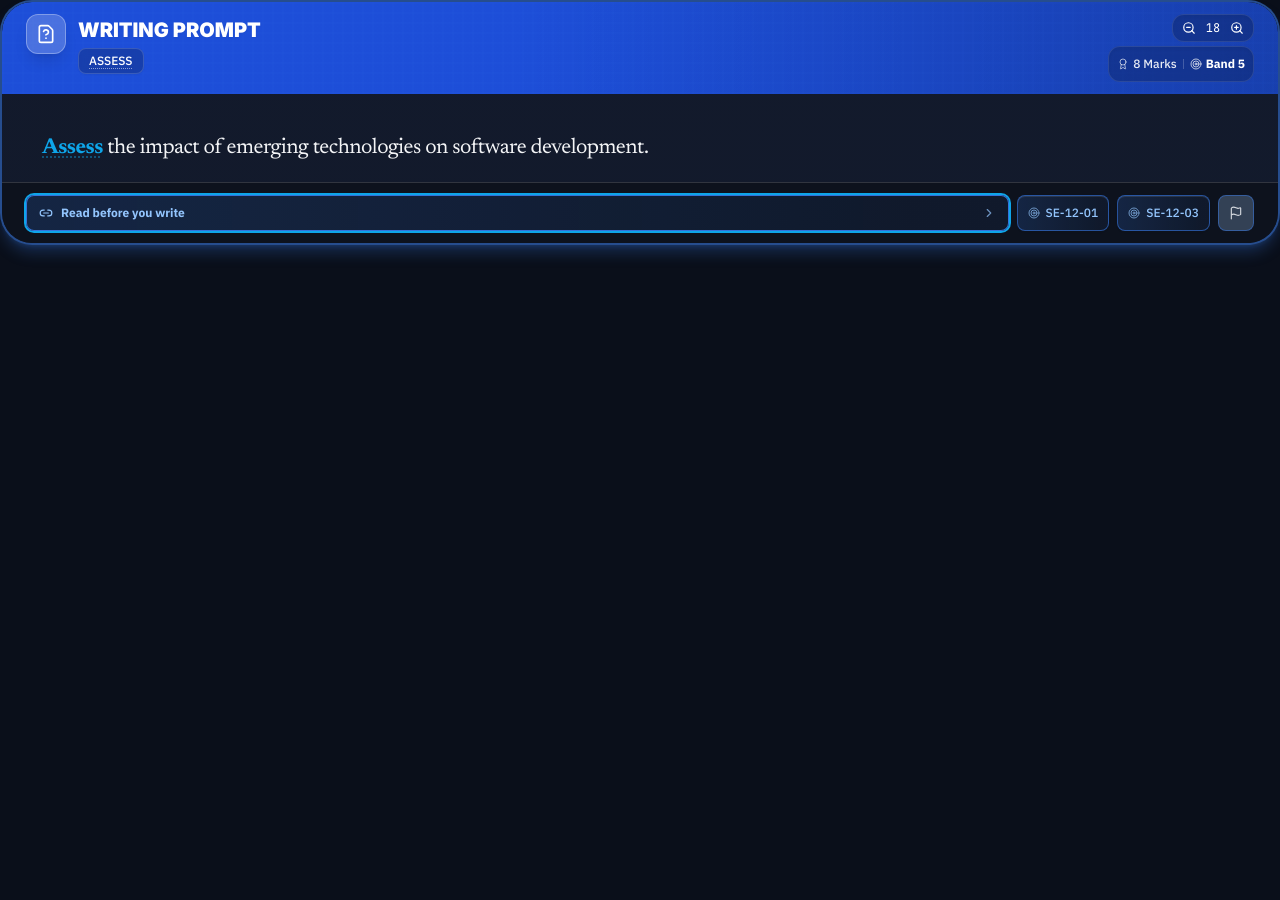
focus returns to the prompt card’s triggers › "Read before you write" opens the outcome brief › returns focus to the button when the brief is closed with Escape
Click the button "Read before you write" at (123, 213), box [26,195,1008,231]
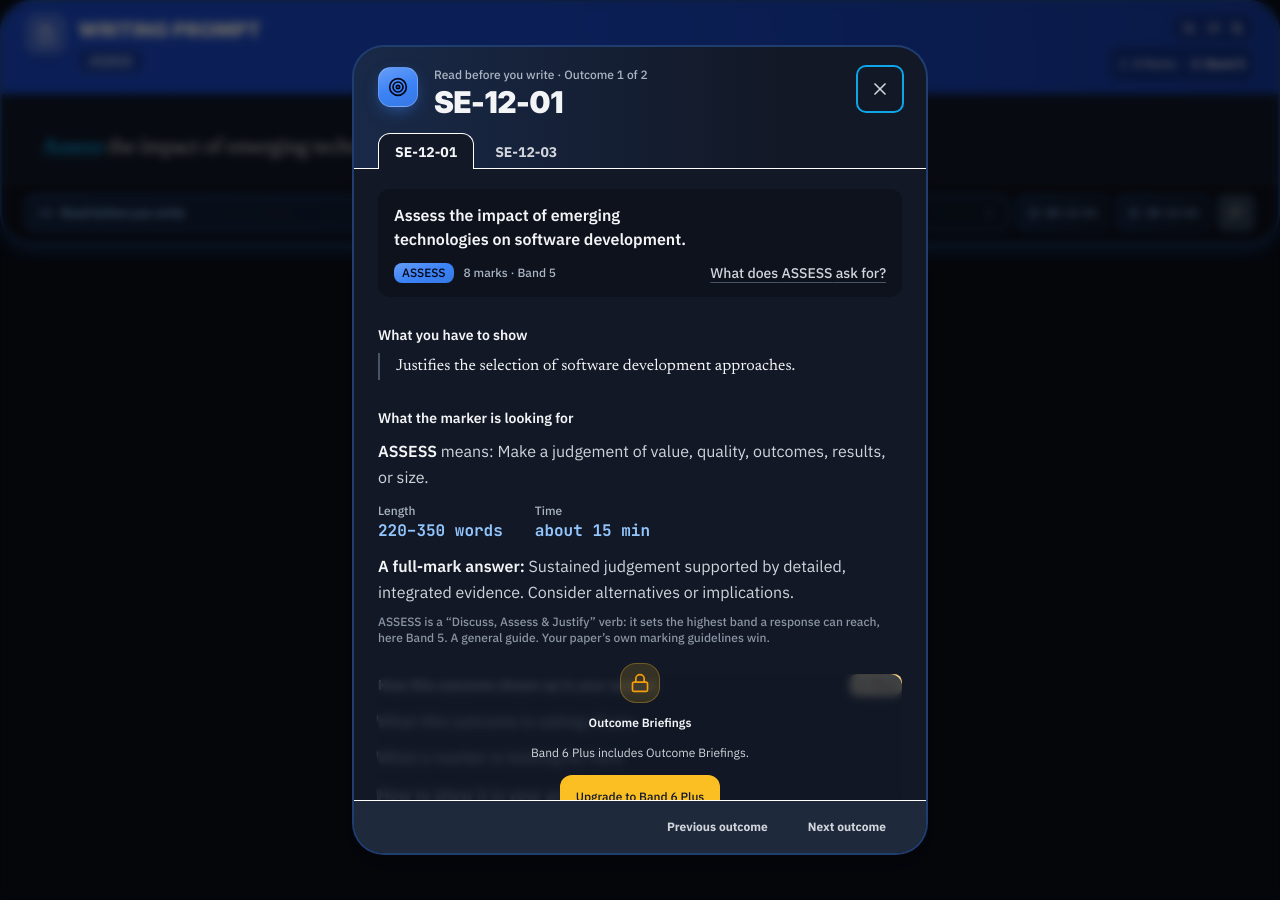
Check: the dialog "SE-12-01" is shown, box [352,45,928,855]
Press Escape in the button named "Close", box [858,67,902,111]
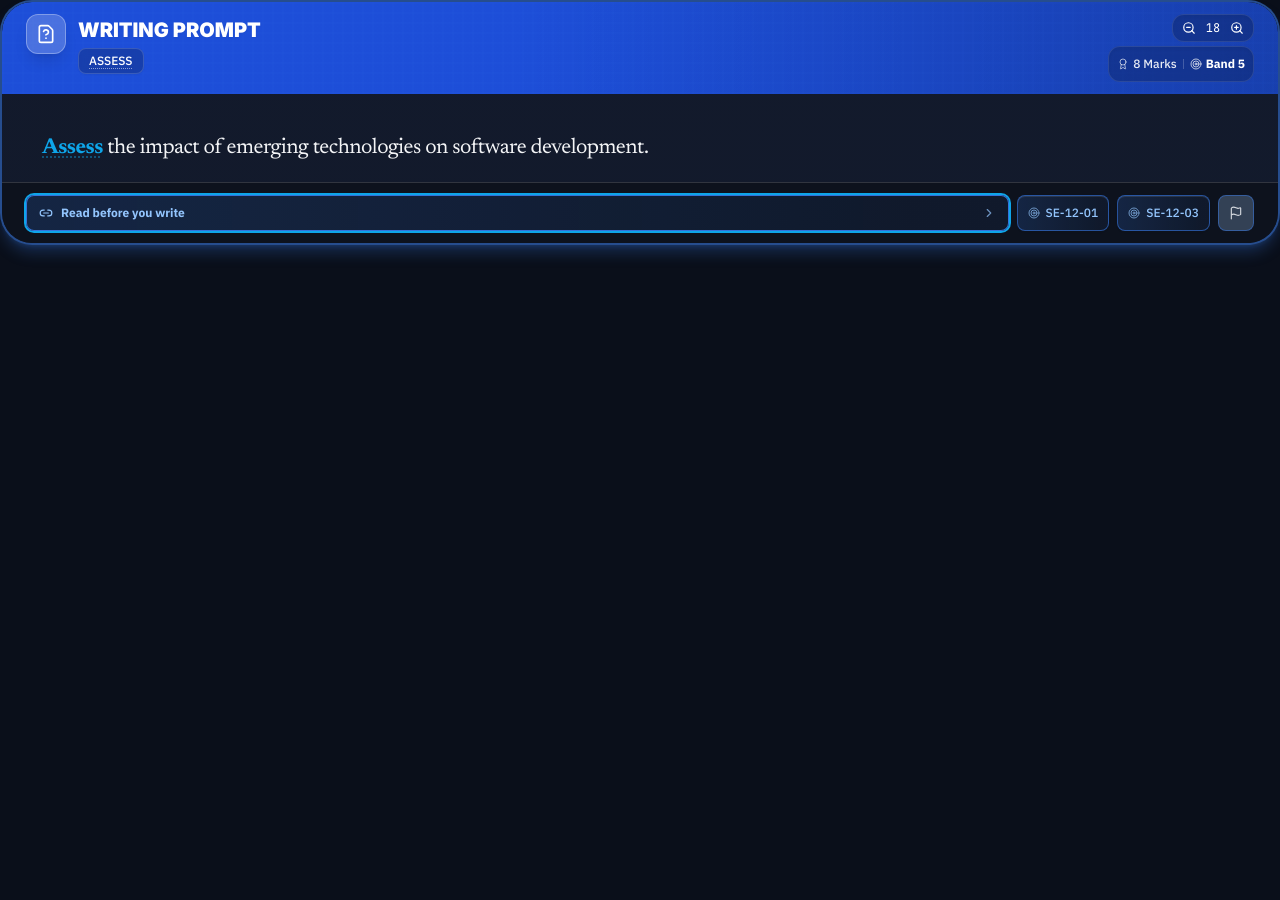
Check: the dialog is gone
